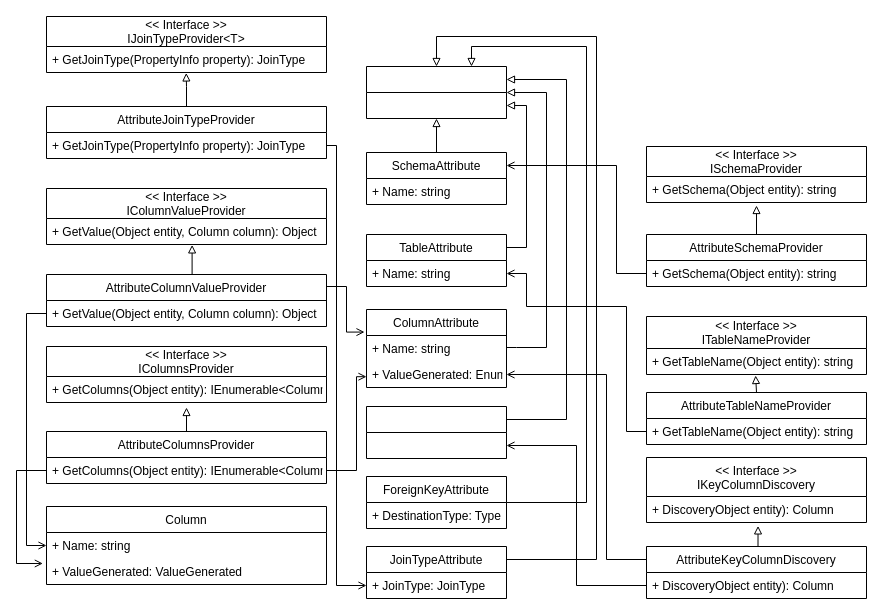
Image size: 883x615. Some labels were removed from this diagram. The centre of each missing label's shape, as x and y in pixels:
Attribute: [436,92]
KeyAttribute: [436,432]
